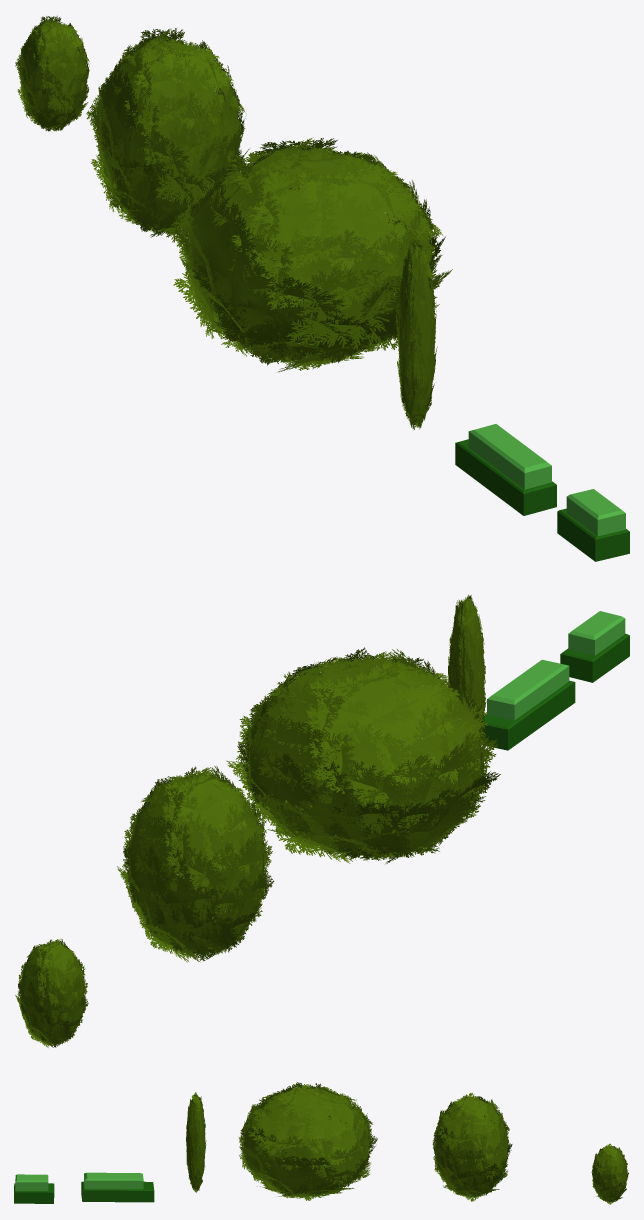
File: Bushes.fbx
3 renders of one model, top to bottom at view 1: azimuth 30°, elevation 25°; view 2: azimuth 150°, elevation 25°; view 3: azimuth 270°, elevation 25°, orthographic. The views are drawn at different scales.
Visible parts, largest first — view 1: BushSmall2, BushSmall1, BushSmall4, BushSmall3, Bush_2, Bush_1; view 2: BushSmall2, BushSmall1, BushSmall4, Bush_2, Bush_1, BushSmall3; view 3: BushSmall2, BushSmall1, Bush_2, BushSmall4, BushSmall3, Bush_1.
Part boxes in pixels (x1=…): BushSmall2: x1=165, y1=137, x2=452, y2=372; BushSmall1: x1=86, y1=28, x2=249, y2=237; BushSmall4: x1=15, y1=15, x2=89, y2=131; BushSmall3: x1=395, y1=238, x2=437, y2=429; Bush_2: x1=455, y1=424, x2=556, y2=515; Bush_1: x1=557, y1=489, x2=629, y2=561; BushSmall2: x1=226, y1=647, x2=500, y2=863; BushSmall1: x1=117, y1=765, x2=274, y2=962; BushSmall4: x1=15, y1=939, x2=88, y2=1047; Bush_2: x1=483, y1=659, x2=575, y2=750; Bush_1: x1=560, y1=611, x2=629, y2=682; BushSmall3: x1=448, y1=594, x2=486, y2=729; BushSmall2: x1=239, y1=1082, x2=377, y2=1200; BushSmall1: x1=432, y1=1092, x2=512, y2=1201; Bush_2: x1=81, y1=1172, x2=154, y2=1202; BushSmall4: x1=591, y1=1143, x2=628, y2=1204; BushSmall3: x1=186, y1=1092, x2=206, y2=1192; Bush_1: x1=14, y1=1174, x2=54, y2=1203.
Bounding box in the file's own units: 4.09 × 3.13 × 17.09.
3 materials, 1 textured.
